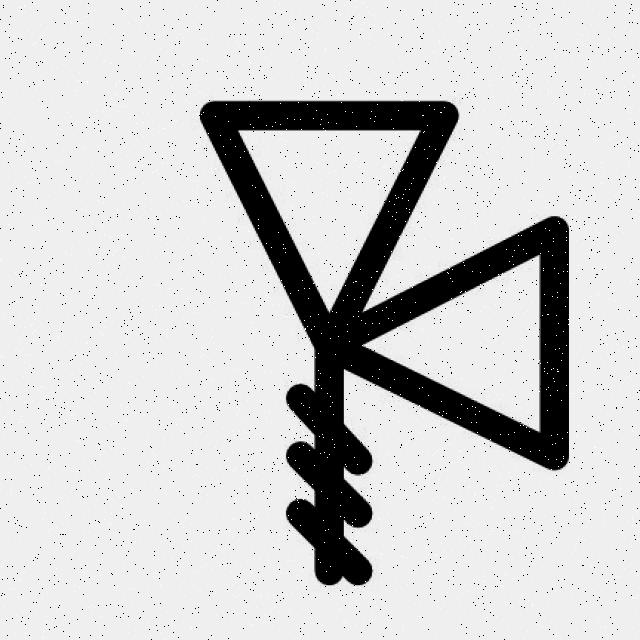PSV: (118, 60, 588, 624)
